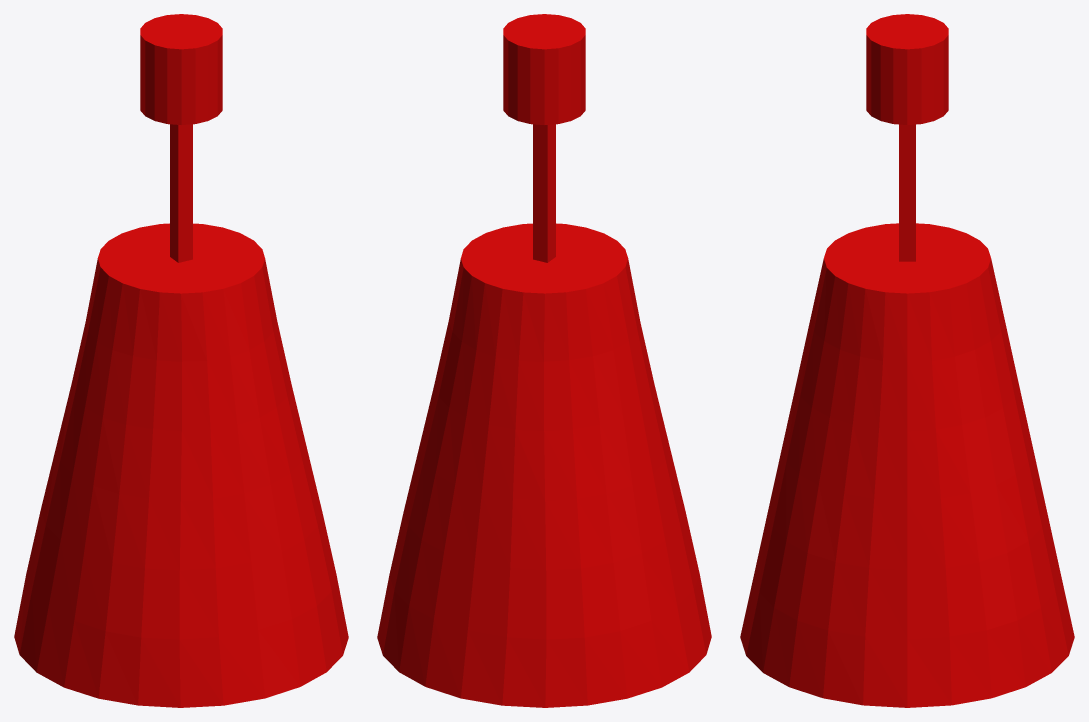
File: Babord-blender.dae
The picture shows the model from 3 angles, left to right: view 1: azimuth 30°, elevation 25°; view 2: azimuth 150°, elevation 25°; view 3: azimuth 270°, elevation 25°; orthographic projection.
Parts seen in each view (by area): view 1: Cone01-FAC; view 2: Cone01-FAC; view 3: Cone01-FAC.
Boxes of the visible parts, x1,y1,x2,y2 form: Cone01-FAC: (14,14,348,707); Cone01-FAC: (377,14,711,707); Cone01-FAC: (740,14,1074,707).
Bounding box in the file's own units: 1.02 × 1.02 × 2.03.
